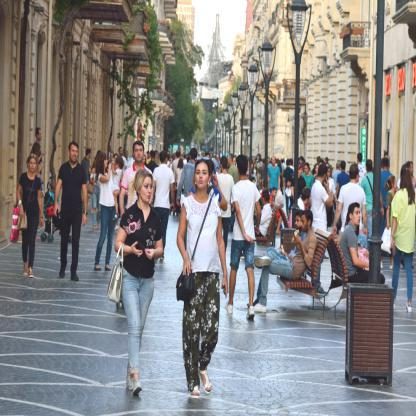person: (112, 169, 164, 397), (180, 158, 224, 399), (256, 208, 318, 314), (230, 154, 260, 320), (56, 140, 86, 282), (390, 164, 415, 316), (19, 155, 45, 278), (92, 150, 116, 272), (341, 200, 368, 284), (312, 161, 334, 232), (153, 150, 176, 212), (177, 146, 200, 199), (342, 160, 366, 208), (217, 153, 235, 205), (129, 138, 148, 174), (268, 155, 282, 190)
